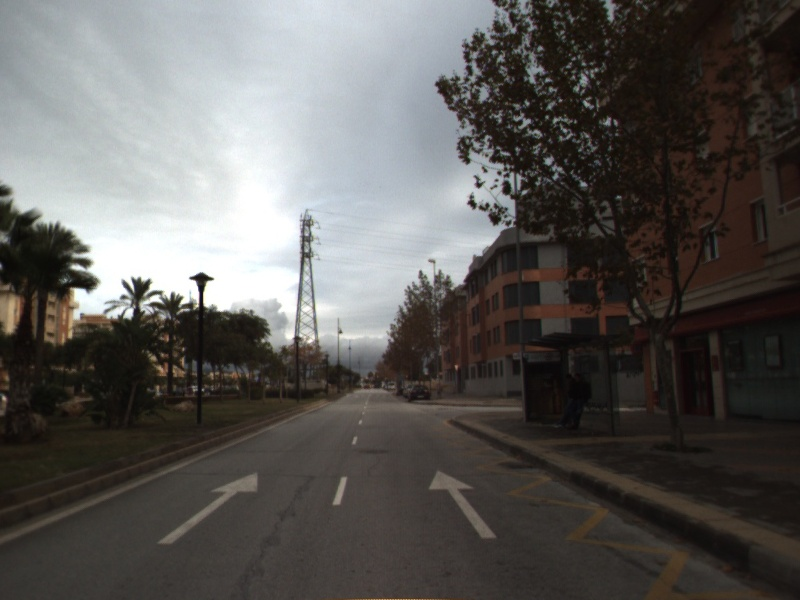STRAIGHT: (155, 471, 260, 546), (427, 468, 499, 540)
